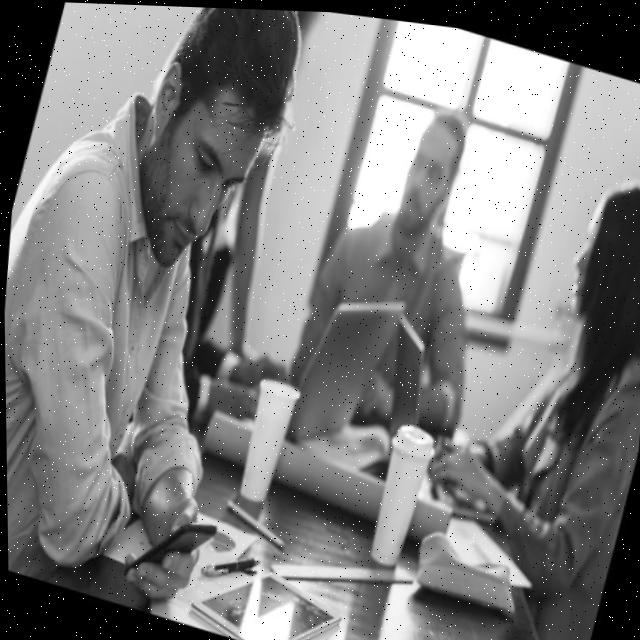phone: (118, 498, 218, 598), (197, 539, 260, 589)
